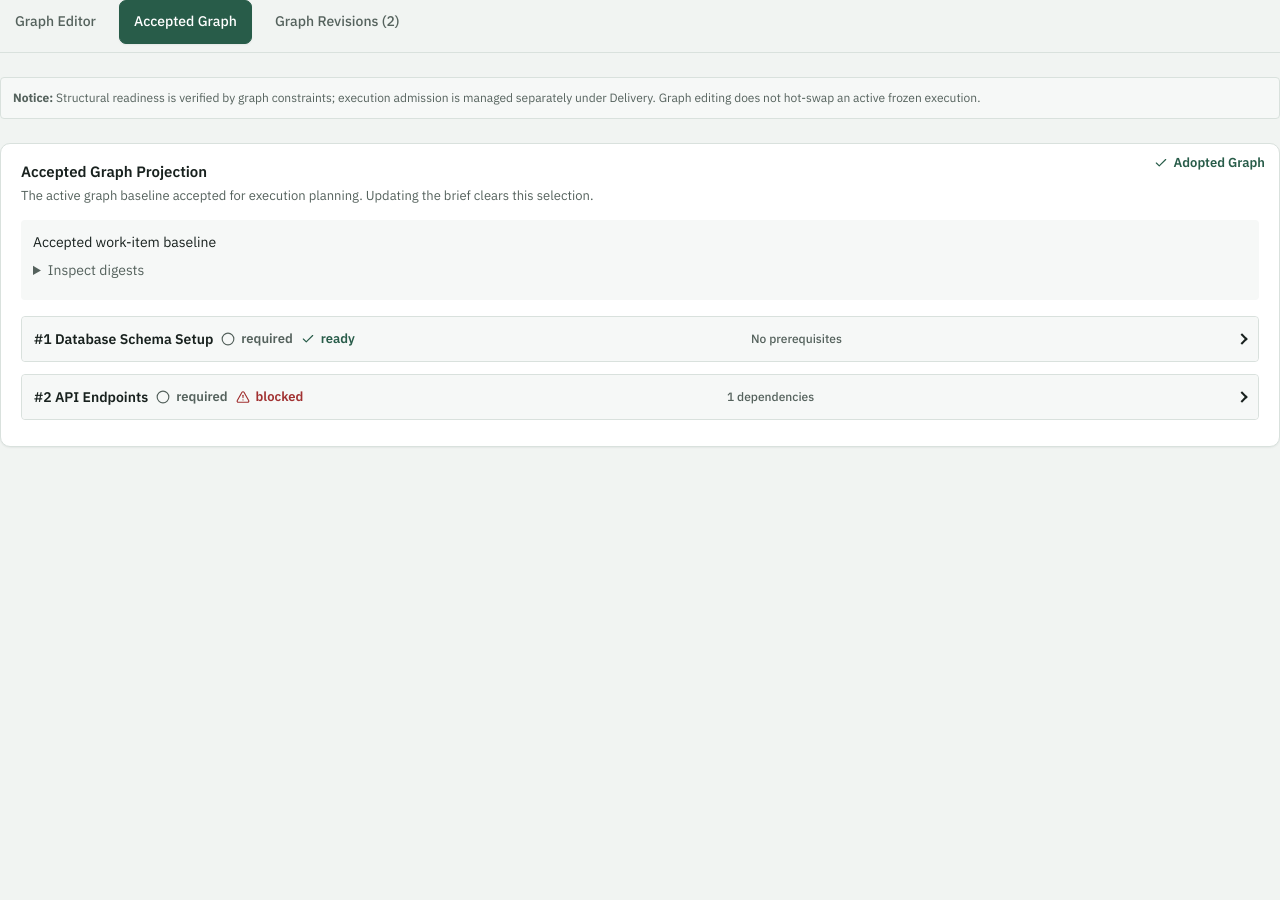
Test case: GraphEditor › reopens the latest saved matching graph even when an older revision is accepted
Click the button "Graph Editor".
click(56, 22)  # box top-left (0, 0), bottom-right (111, 44)
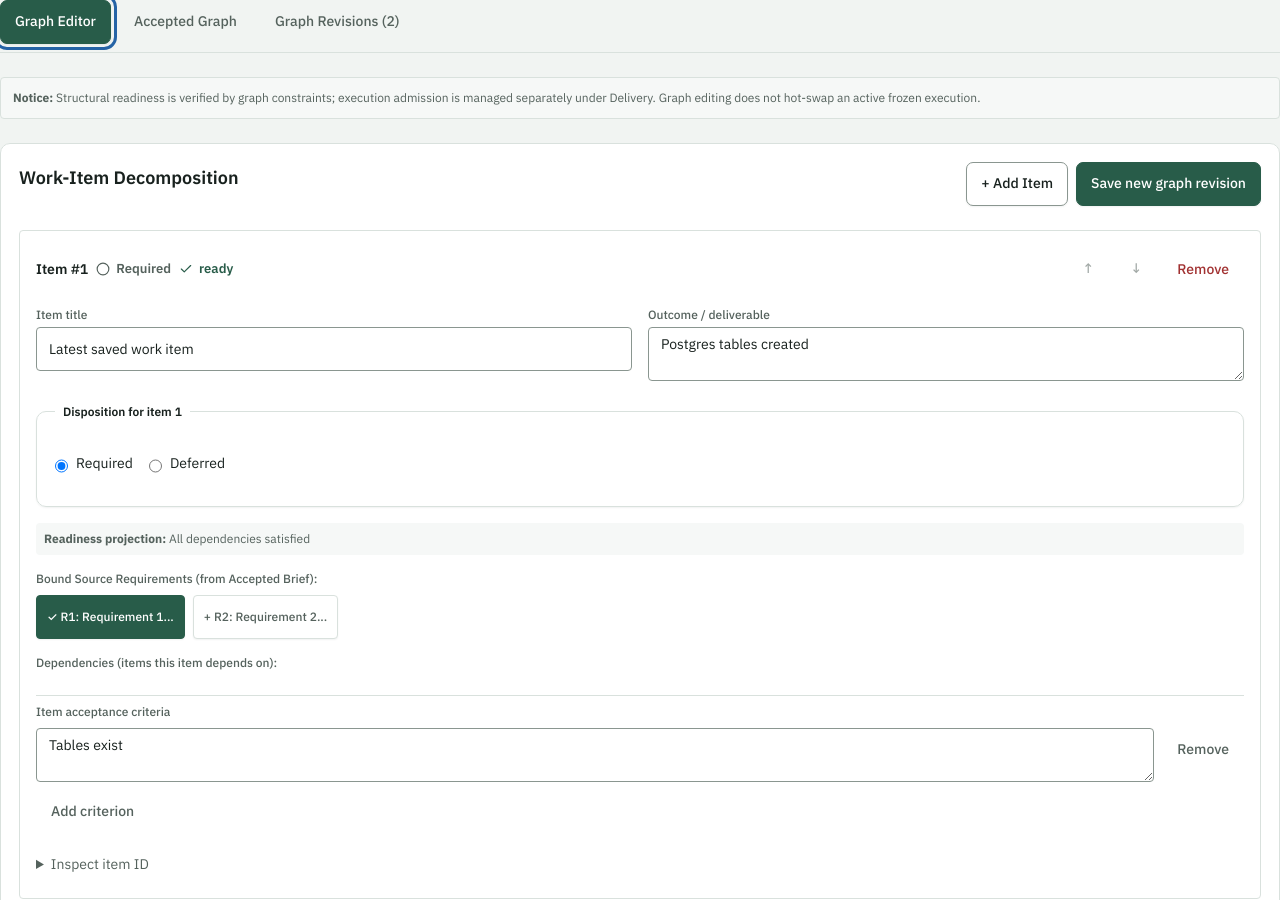
expect the field showing "Latest saved work item" is shown: met, box top-left (36, 327), bottom-right (632, 371)
expect the heading showing "Database Schema Setup" is gone: met
